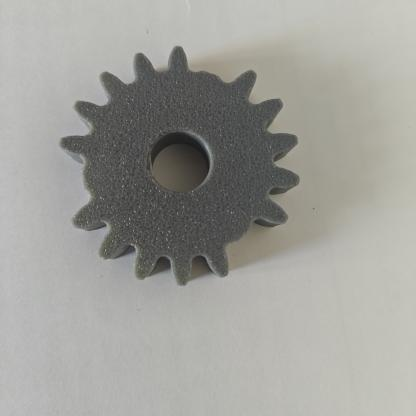defect: (195, 195, 296, 279), (41, 133, 126, 232), (166, 38, 266, 117)
gear: (38, 33, 331, 310)
